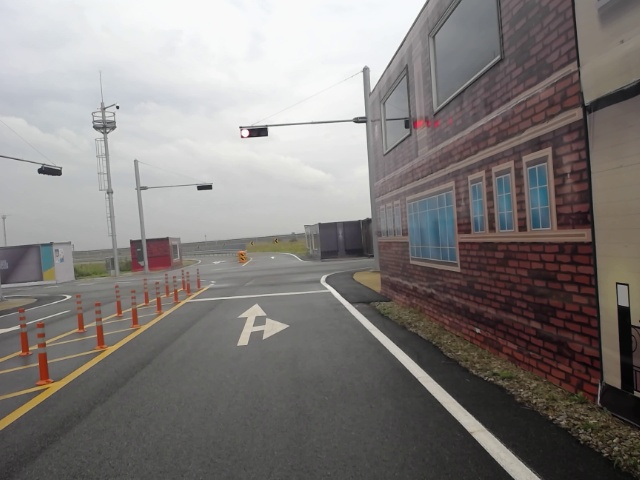red_3: (240, 128, 268, 139)
